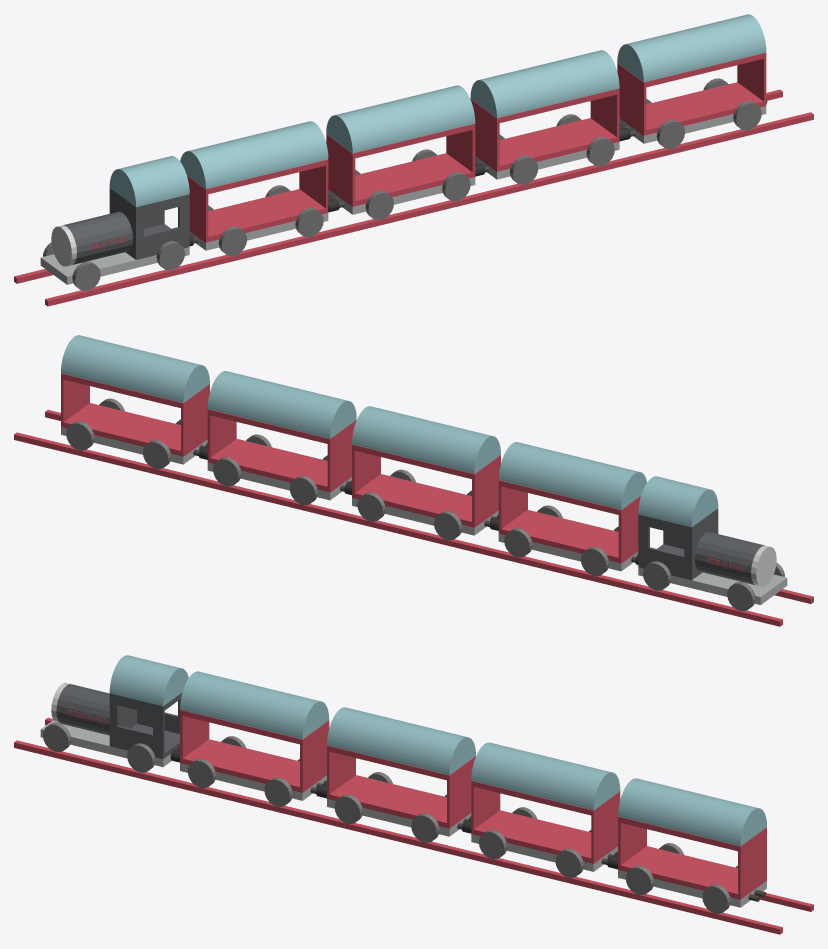
The model's file is Project-150(Train).glb.
3 renders of one model, top to bottom at view 1: azimuth 30°, elevation 25°; view 2: azimuth 150°, elevation 25°; view 3: azimuth 330°, elevation 25°, orthographic.
Visible parts, largest first — view 1: Mesh_Mesh_head_geo.001_lambert2SG.001; view 2: Mesh_Mesh_head_geo.001_lambert2SG.001; view 3: Mesh_Mesh_head_geo.001_lambert2SG.001.
Part boxes in pixels (bbox=[...]): Mesh_Mesh_head_geo.001_lambert2SG.001: bbox=[14, 14, 813, 306]; Mesh_Mesh_head_geo.001_lambert2SG.001: bbox=[14, 335, 813, 626]; Mesh_Mesh_head_geo.001_lambert2SG.001: bbox=[14, 655, 813, 934].
Size of the model in its own units: 300 by 38 by 23.
